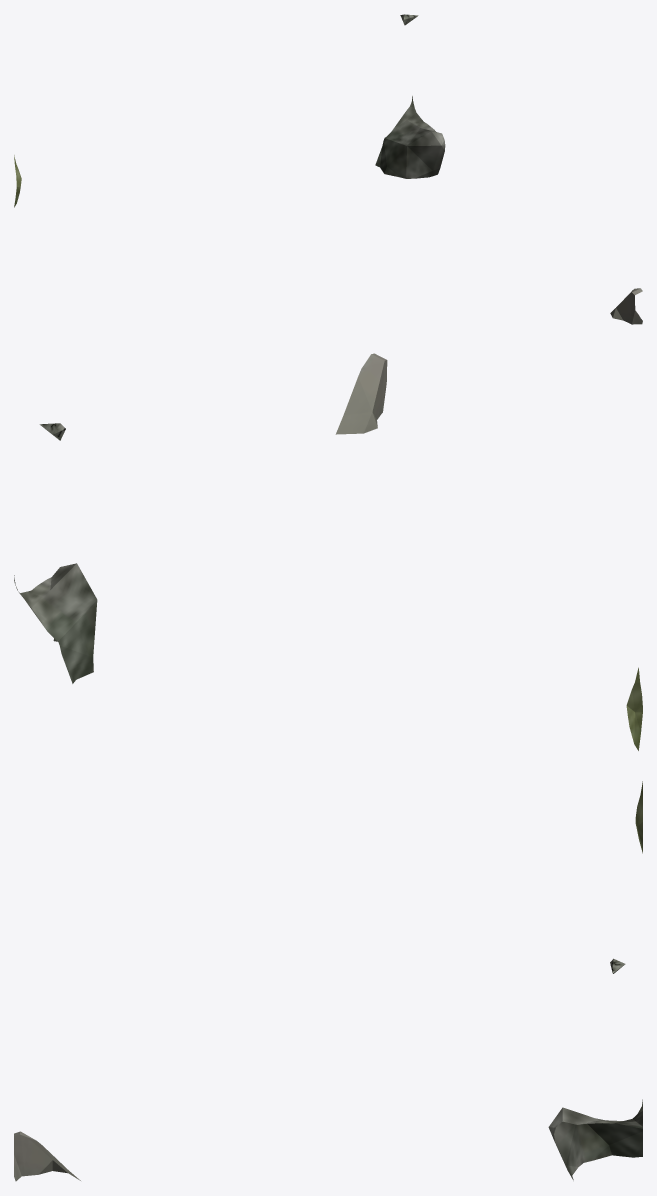
3 views of the same model, one above another, from view 1: azimuth 30°, elevation 25°; view 2: azimuth 150°, elevation 25°; view 3: azimuth 270°, elevation 25° (orthographic). The views are drawn at different scales.
Size of the model in its own units: 5.9 by 2.18 by 5.9.
Materials: 1 (1 with a texture image).
